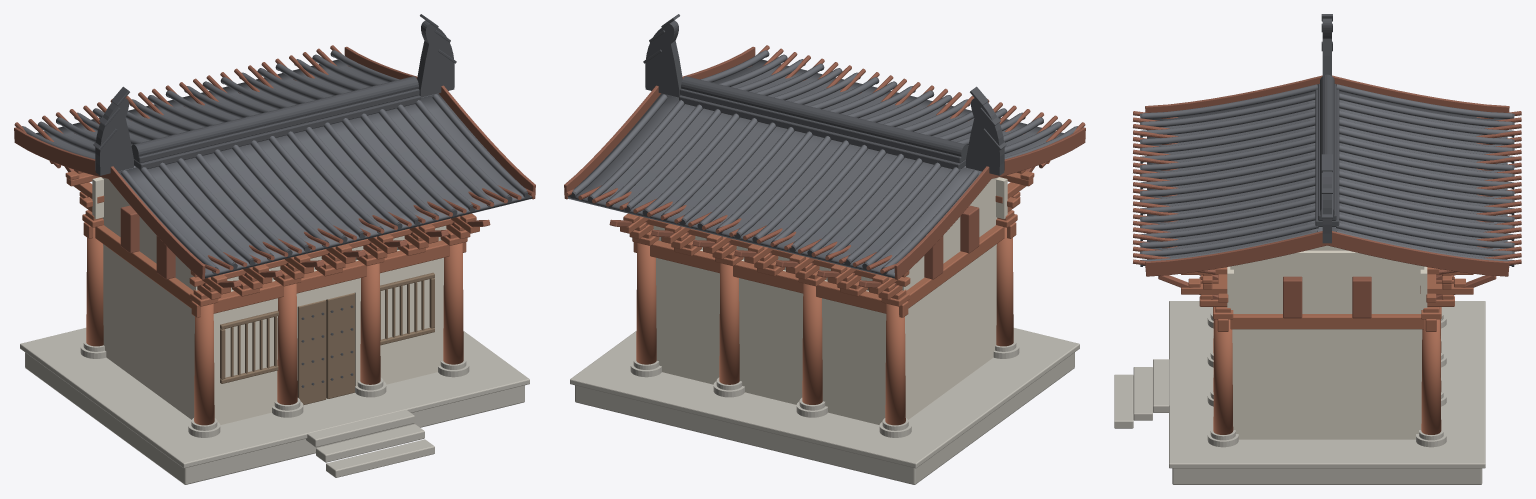
File: tang_hall_small.fbx
3 renders of one model, left to right at view 1: azimuth 30°, elevation 25°; view 2: azimuth 150°, elevation 25°; view 3: azimuth 270°, elevation 25°, orthographic. The views are drawn at different scales.
Parts seen in each view (by area): view 1: roof_deck_f, plinth_edge, wall_gable, plinth, wall_front.001, wall_front, roof_deck_b, ridge_cap, lintel_f, door_leaf.001, door_leaf, column.001 (+34 smaller); view 2: roof_deck_b, wall_back, plinth_edge, wall_gable, plinth, roof_deck_f, ridge_cap, lintel_b, column.002, column.006, column, column.004 (+27 smaller); view 3: wall_gable.001, plinth_edge, roof_deck_b, roof_deck_f, plinth, lintel_r, column.007, column, ridge_cap, tile_run.018, tile_run, tile_run.006 (+40 smaller).
Boxes of the visible parts, left/top/right/bottom form: roof_deck_f: left=118, top=93, right=531, bottom=278; plinth_edge: left=20, top=328, right=529, bottom=468; wall_gable: left=102, top=177, right=194, bottom=419; plinth: left=25, top=352, right=524, bottom=484; wall_front.001: left=355, top=250, right=443, bottom=386; wall_front: left=213, top=280, right=297, bottom=424; roof_deck_b: left=36, top=59, right=438, bottom=171; ridge_cap: left=131, top=76, right=418, bottom=159; lintel_f: left=191, top=240, right=466, bottom=317; door_leaf.001: left=326, top=293, right=355, bottom=398; door_leaf: left=297, top=300, right=326, bottom=405; column.001: left=194, top=303, right=214, bottom=425; roof_deck_b: left=568, top=93, right=981, bottom=278; wall_back: left=656, top=250, right=886, bottom=424; plinth_edge: left=570, top=328, right=1079, bottom=468; wall_gable: left=905, top=177, right=997, bottom=419; plinth: left=575, top=352, right=1074, bottom=484; roof_deck_f: left=661, top=59, right=1063, bottom=171; ridge_cap: left=681, top=76, right=968, bottom=157; lintel_b: left=633, top=240, right=908, bottom=317; column.002: left=885, top=303, right=905, bottom=425; column.006: left=719, top=263, right=739, bottom=384; column: left=636, top=243, right=656, bottom=364; column.004: left=802, top=283, right=822, bottom=404; wall_gable.001: left=1230, top=250, right=1424, bottom=439; plinth_edge: left=1169, top=301, right=1485, bottom=468; roof_deck_b: left=1332, top=91, right=1507, bottom=259; roof_deck_f: left=1147, top=91, right=1322, bottom=259; plinth: left=1172, top=468, right=1482, bottom=484; lintel_r: left=1230, top=314, right=1424, bottom=329; column.007: left=1213, top=319, right=1233, bottom=434; column: left=1421, top=319, right=1441, bottom=434; ridge_cap: left=1320, top=74, right=1334, bottom=216; tile_run.018: left=1336, top=84, right=1512, bottom=119; tile_run: left=1142, top=84, right=1317, bottom=119; tile_run.006: left=1142, top=136, right=1315, bottom=170.
Size of the model in its own units: 8.62 by 7.67 by 8.82.
